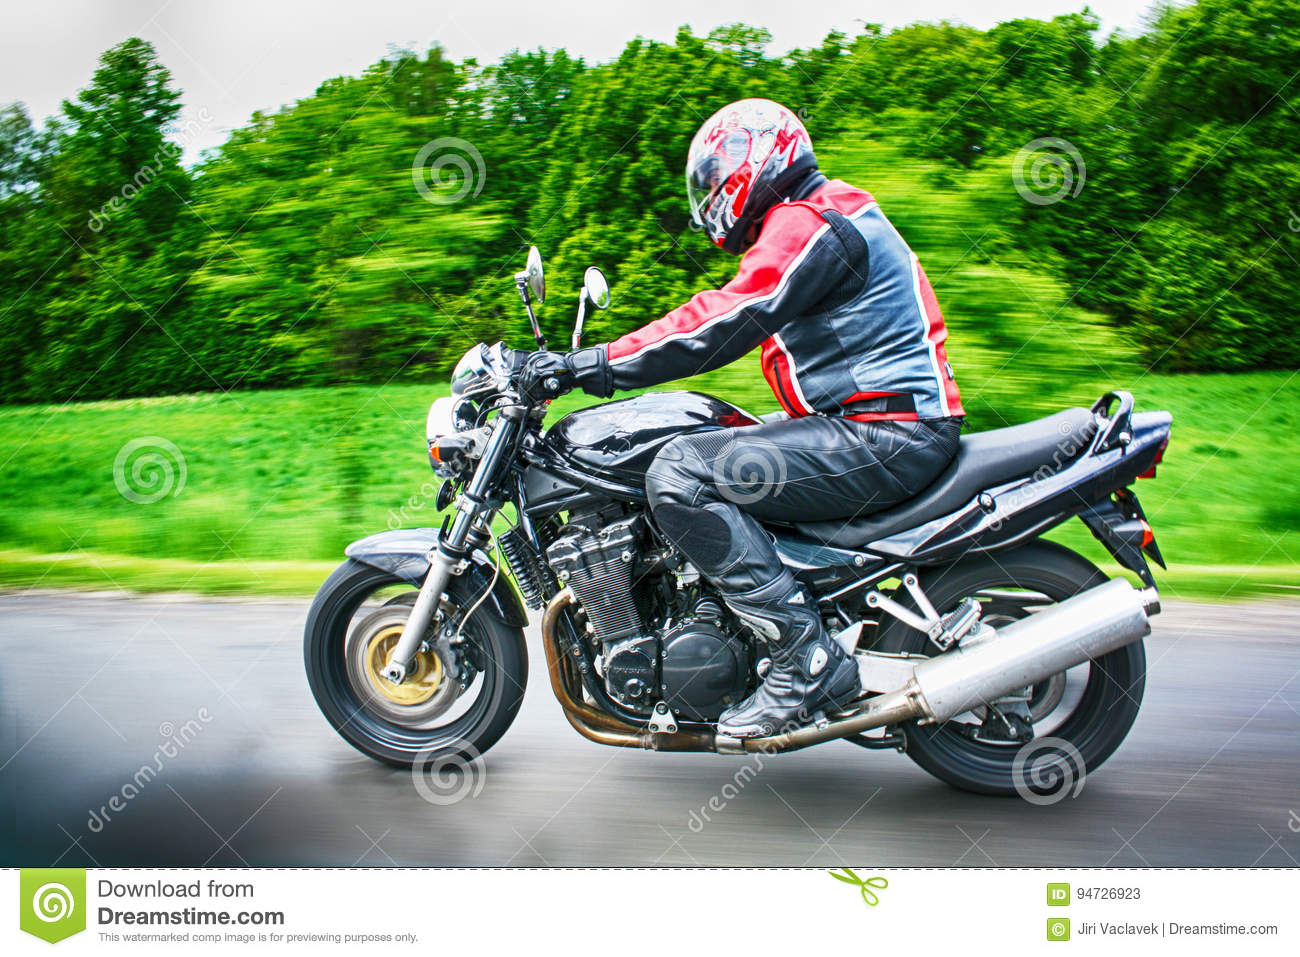helmet: (685, 105, 818, 230)
